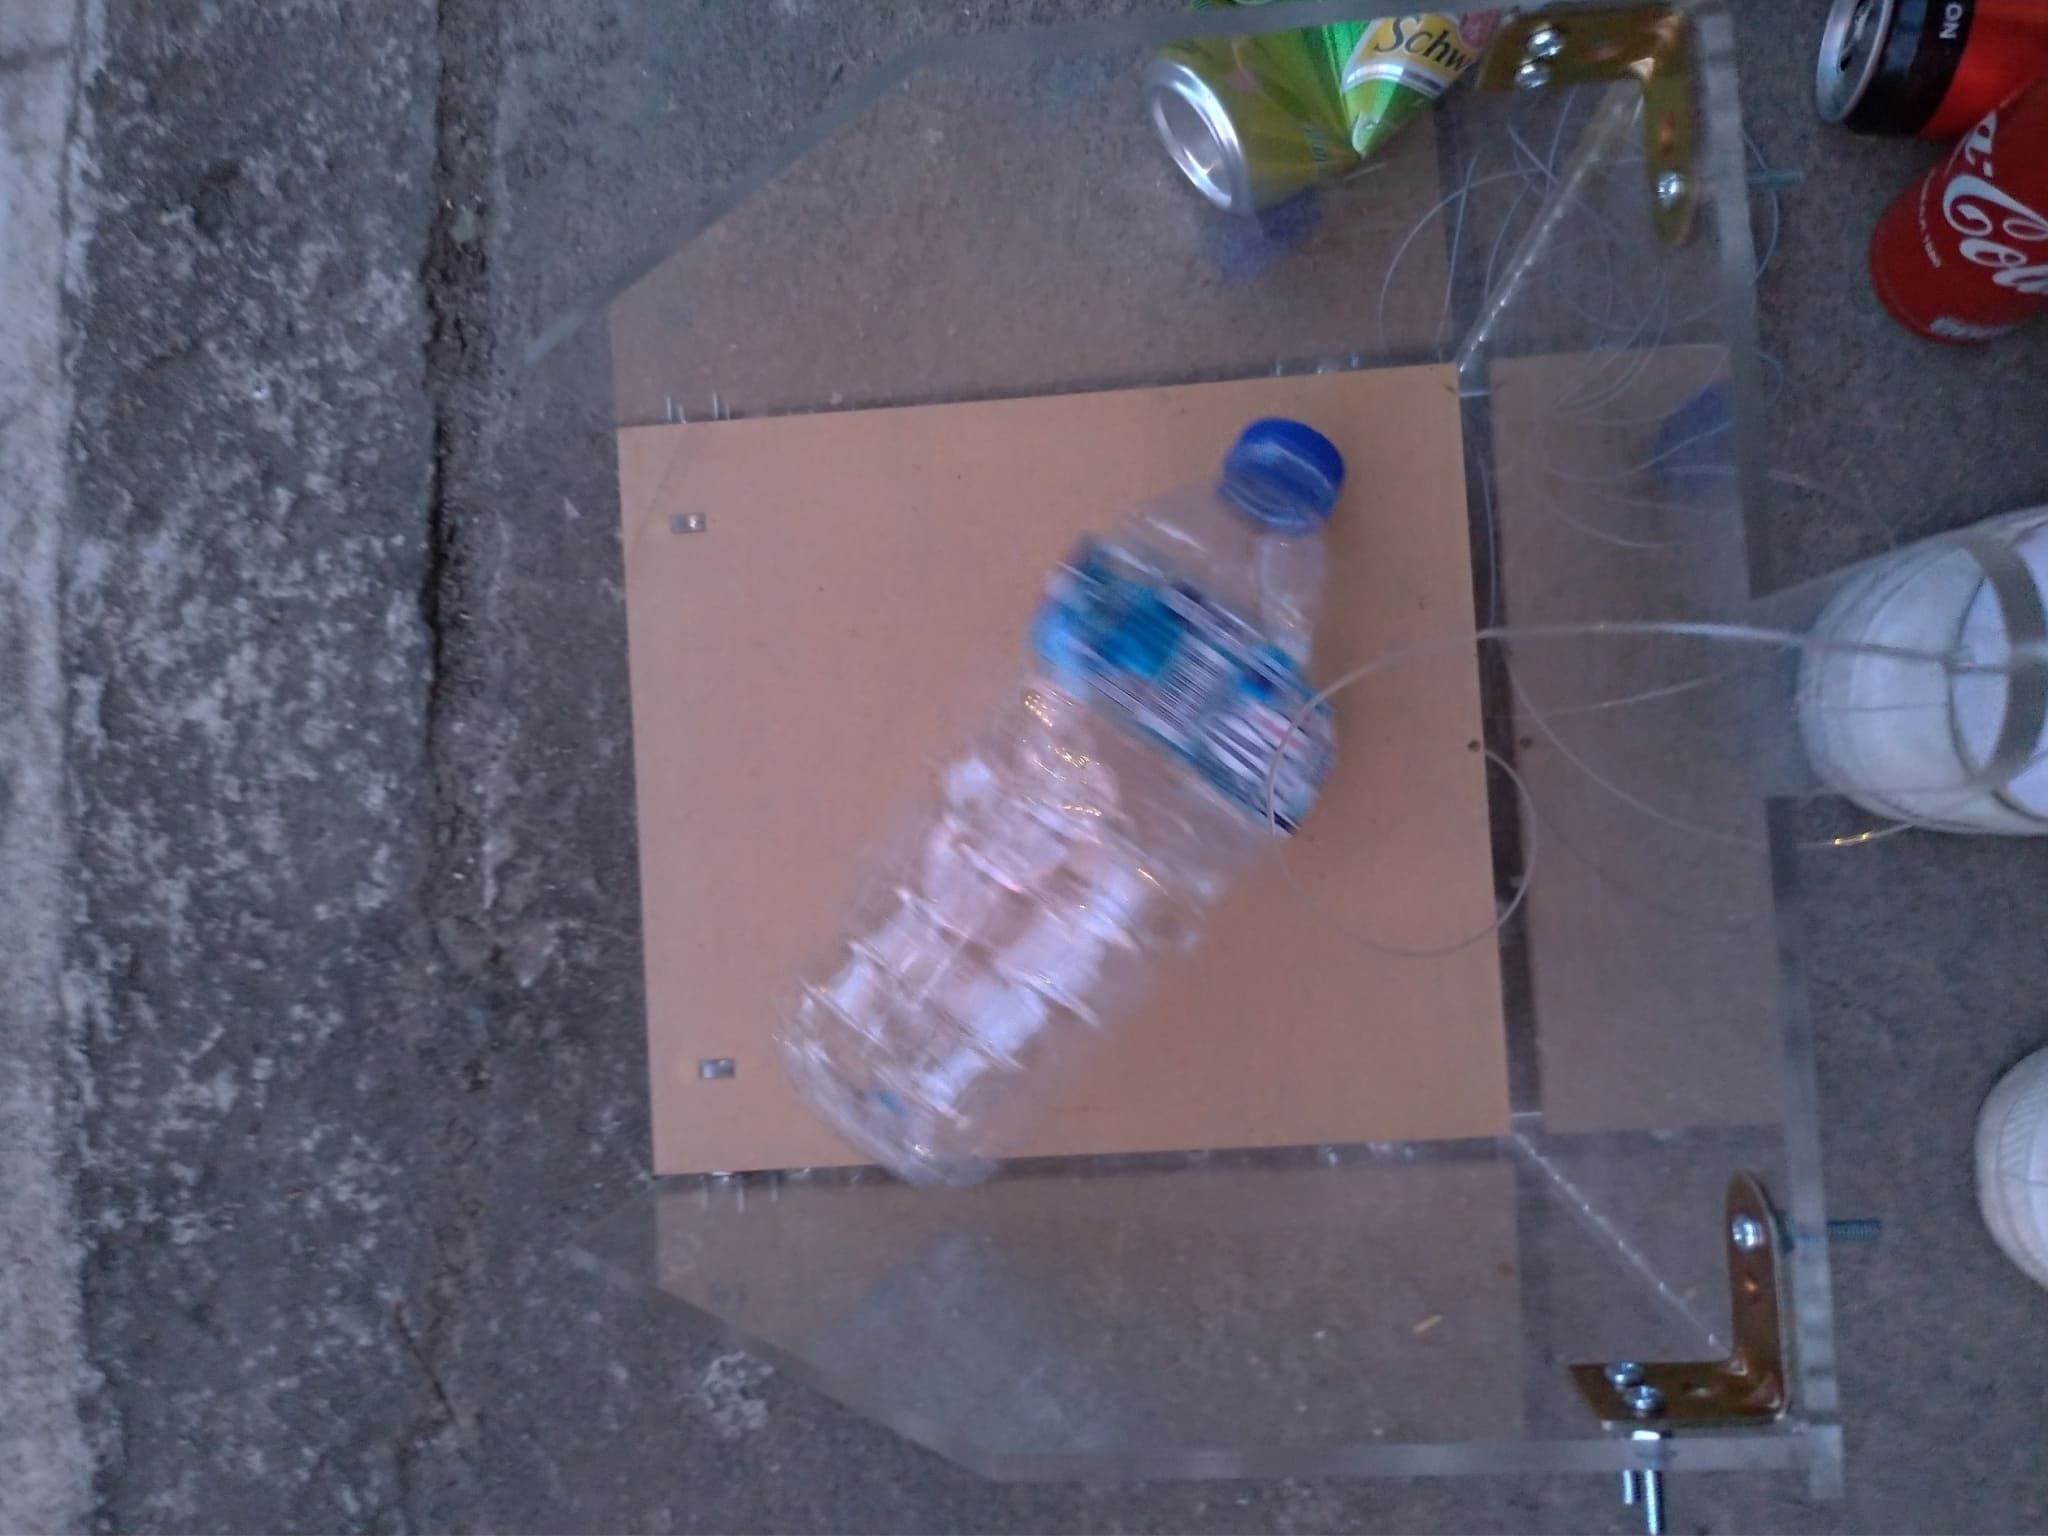Alcan: (1143, 5, 1505, 219), (1869, 69, 2048, 350), (1811, 5, 2046, 142)
PlasticBottle: (780, 421, 1350, 1183)
